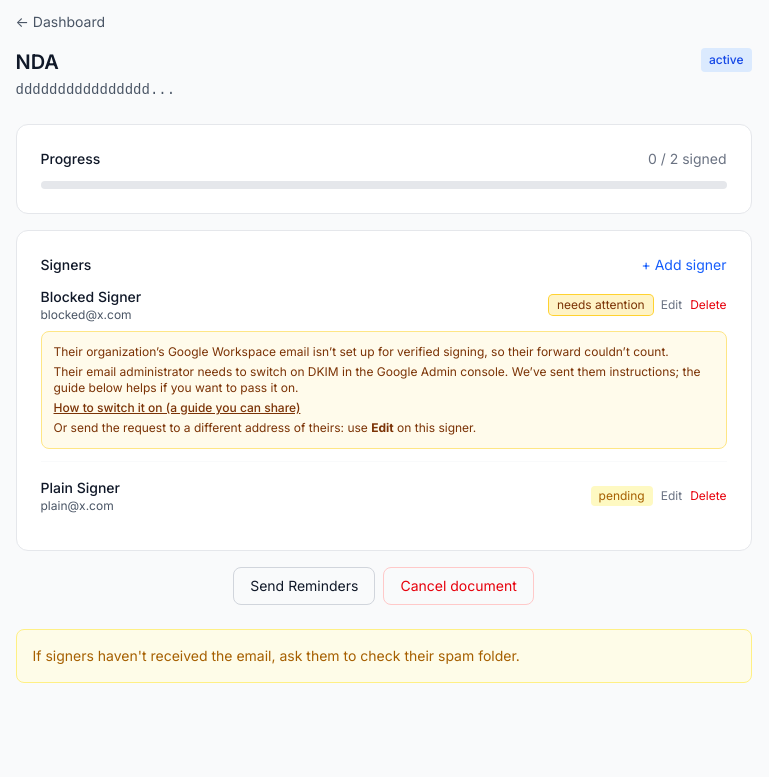
Test: EnvelopeDetailPage — every control reaches 44x44 on a phone, in every state (UX-039..041, FC32.1) › S2 the add-signer form, on-behalf ticked: its inputs, the checkbox label, Add & send request, Cancel
Step 1. Click the button "+ Add signer" → x=684, y=265, box 642,255 -> 726,275
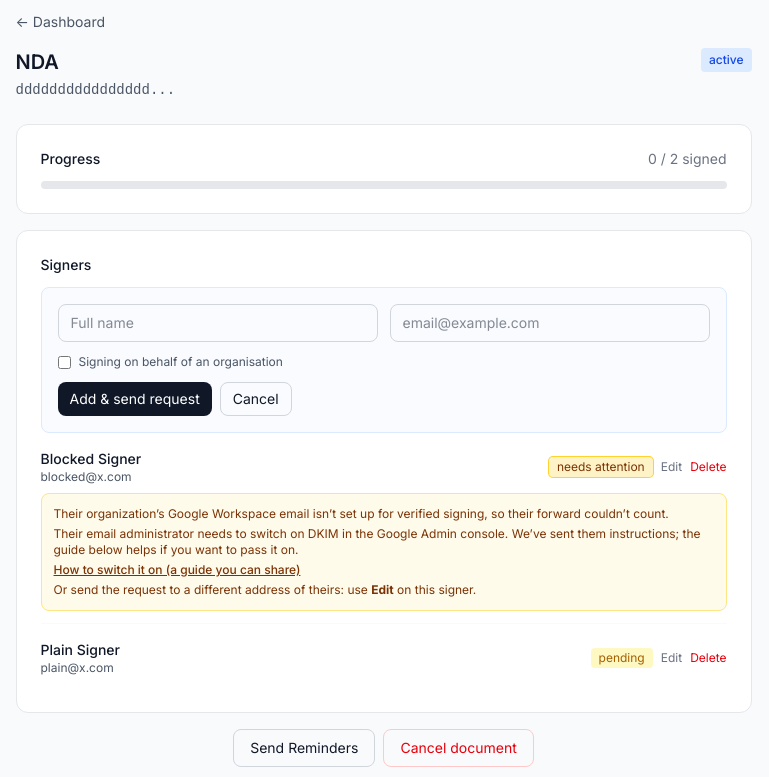
Step 2. Click the checkbox → x=64, y=362, box 58,356 -> 70,368
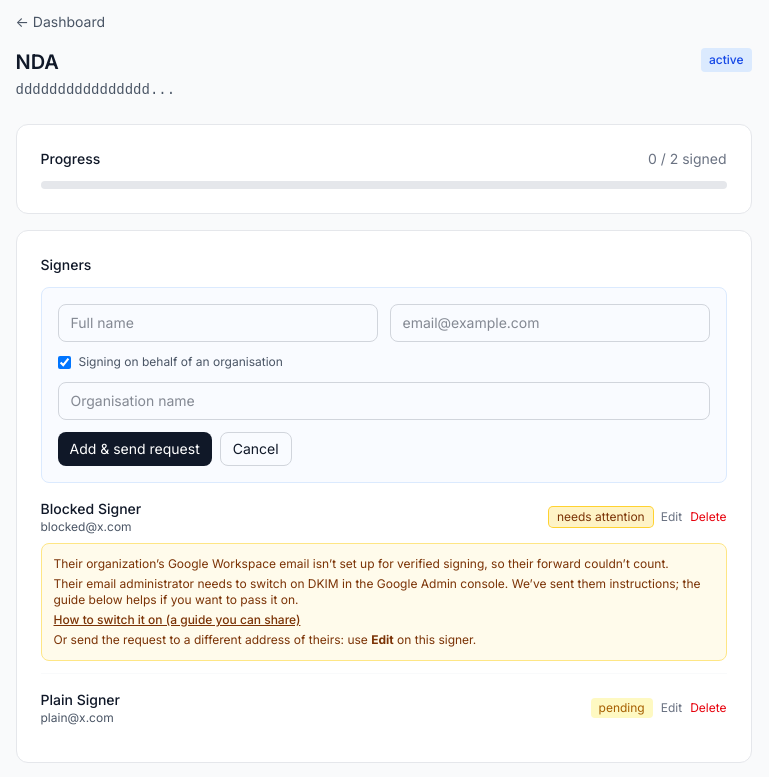
Expected: the field with placeholder "Full name" is shown, 58,304 -> 378,342
Expected: the field with placeholder "email@example.com" is shown, 390,304 -> 710,342
Expected: the field with placeholder "Organisation name" is shown, 58,382 -> 710,420
